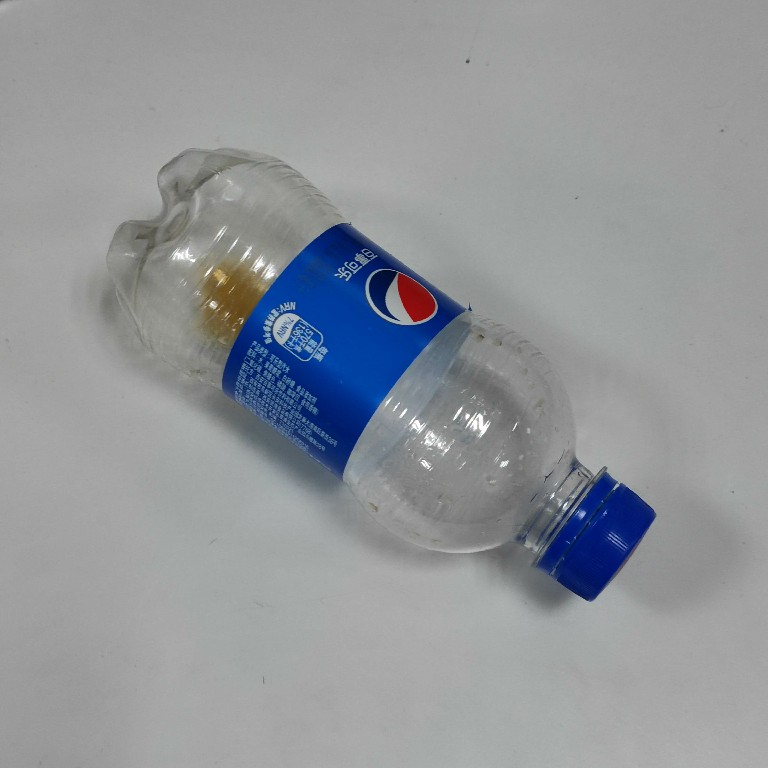bottle: (100, 141, 664, 613)
